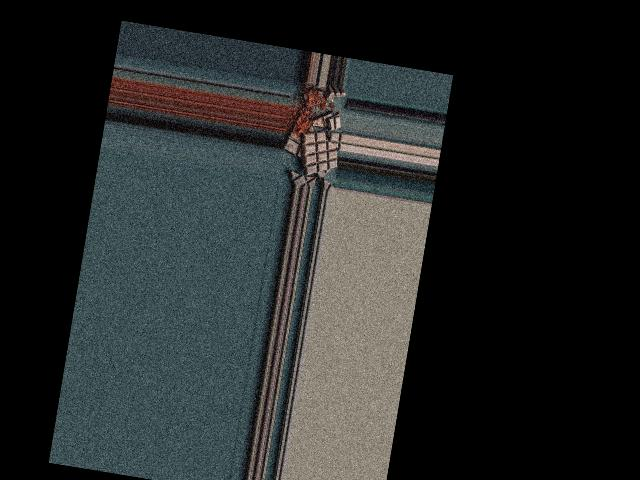chocolate: (295, 128, 342, 181)
